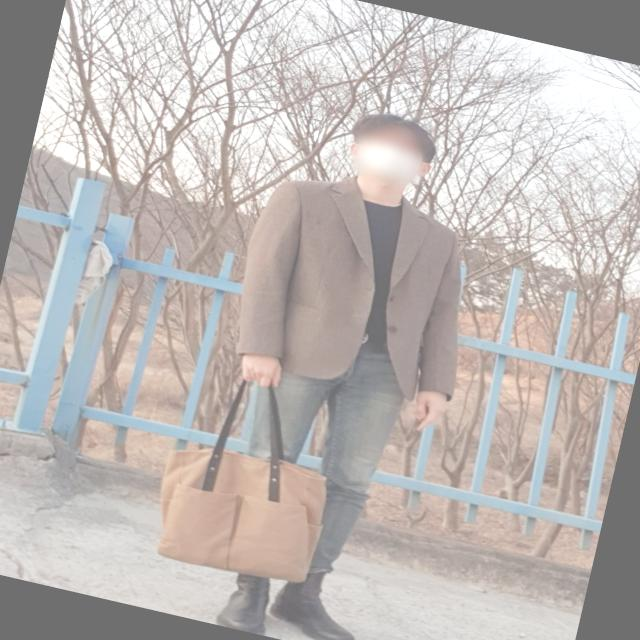blazer: (220, 156, 492, 414)
denimpants: (190, 298, 419, 614)
